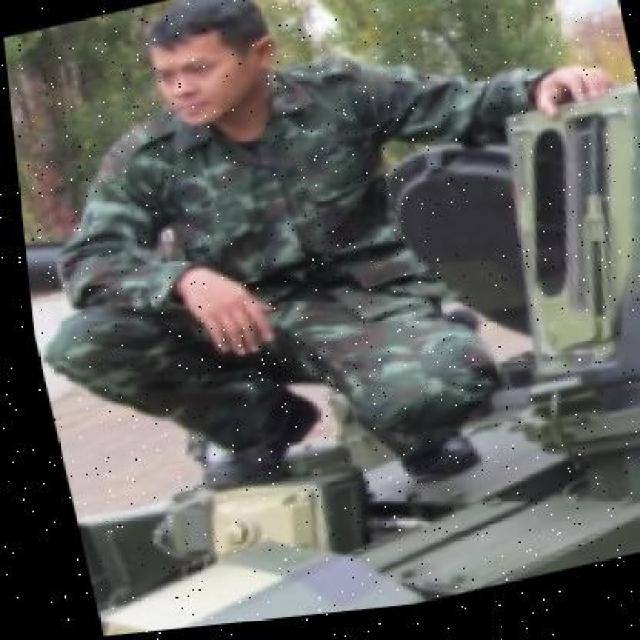MIL_Pax: (0, 0, 549, 558)
